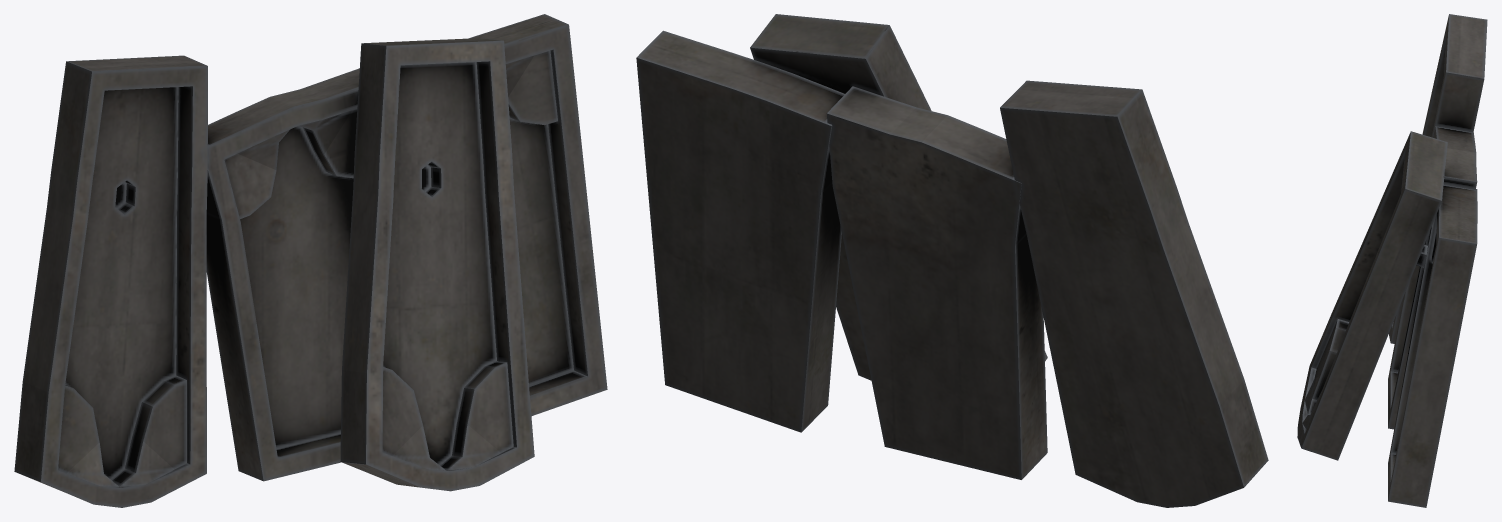
The model's file is coffinprops.glb.
3 renders of one model, left to right at view 1: azimuth 30°, elevation 25°; view 2: azimuth 150°, elevation 25°; view 3: azimuth 270°, elevation 25°, orthographic. The views are drawn at different scales.
Visible parts, largest first — view 1: Cube.001; view 2: Cube.001; view 3: Cube.001.
Part boxes in pixels (<box>): Cube.001: <box>14,14,607,507</box>; Cube.001: <box>636,14,1268,507</box>; Cube.001: <box>1297,14,1487,507</box>.
Bounding box in the file's own units: 10.23 × 7.4 × 3.9.
Materials: 1 (1 with a texture image).
